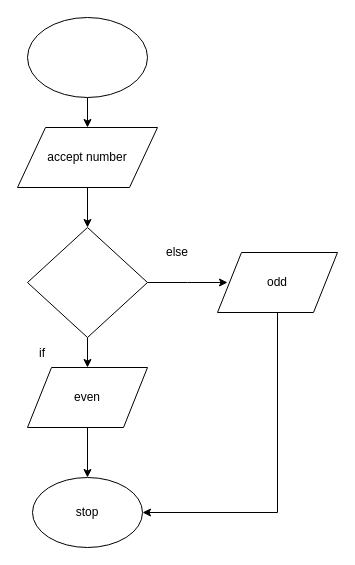
This 355x565 diagram has some shape labels left out. Each missing label, with the centre of its shape:
n = natural number number = 2n: the point at 87,282
start: the point at 87,57
